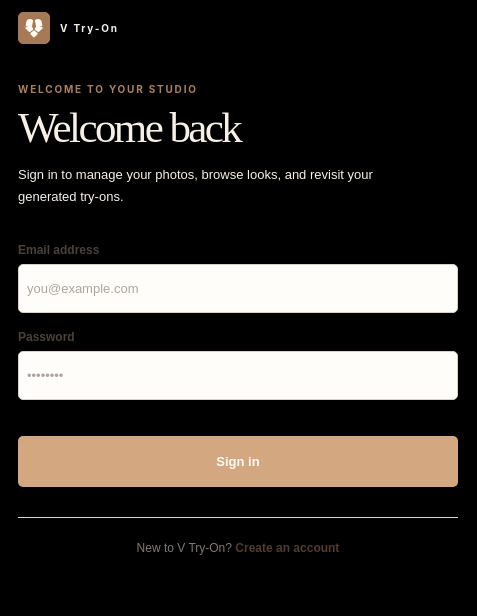
Test: Login Flow — Phase 4 Tests › validates empty inputs and prevents submission
Click the button "Sign in". click: [238, 462]
box: [18,436,458,487]
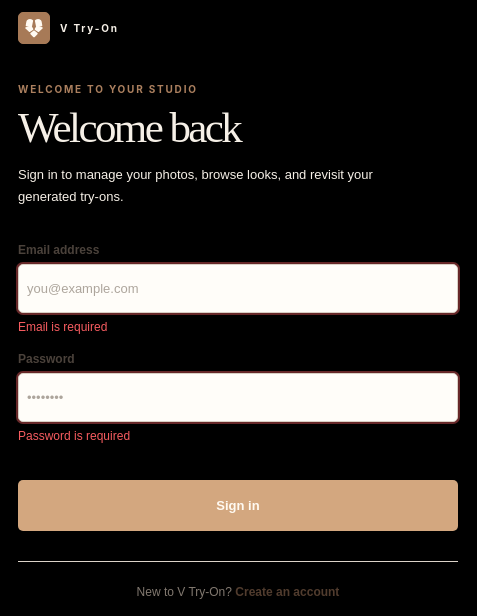
Expected: the text "Email is required" is shown, [18,320,107,334]
Expected: the text "Password is required" is shown, [18,429,130,443]
